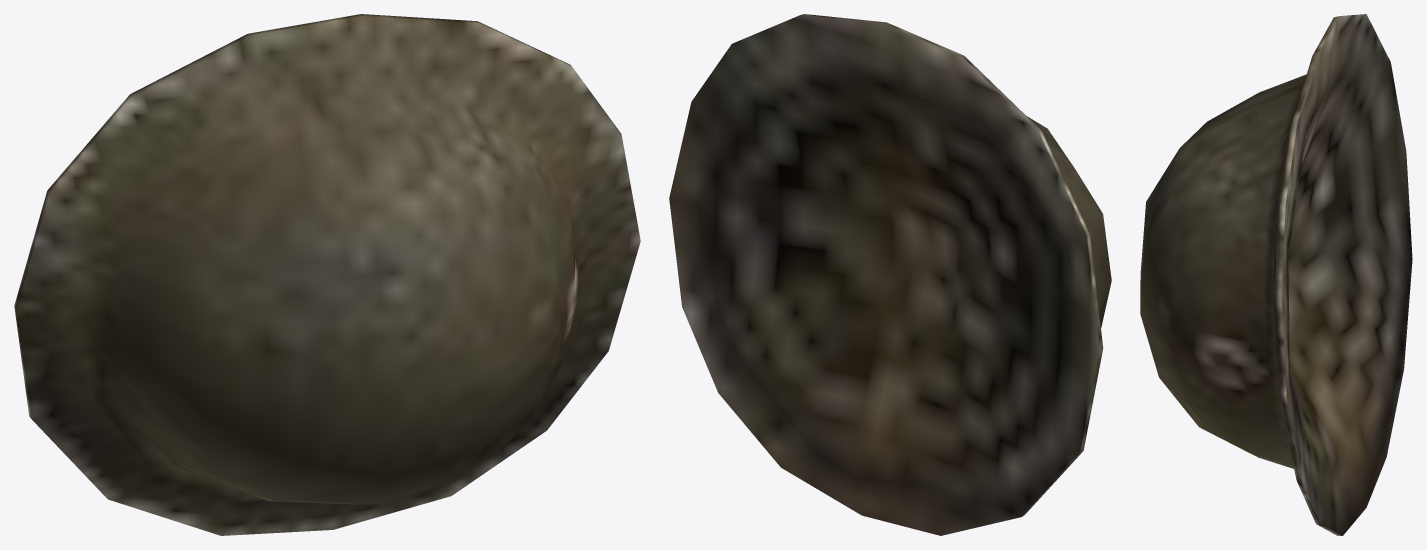
File: helmet_british_joel_driver.glb
3 renders of one model, left to right at view 1: azimuth 30°, elevation 25°; view 2: azimuth 150°, elevation 25°; view 3: azimuth 270°, elevation 25°, orthographic. The views are drawn at different scales.
Size of the model in its own units: 12.93 by 11.85 by 6.42.
Materials: 1 (1 with a texture image).
